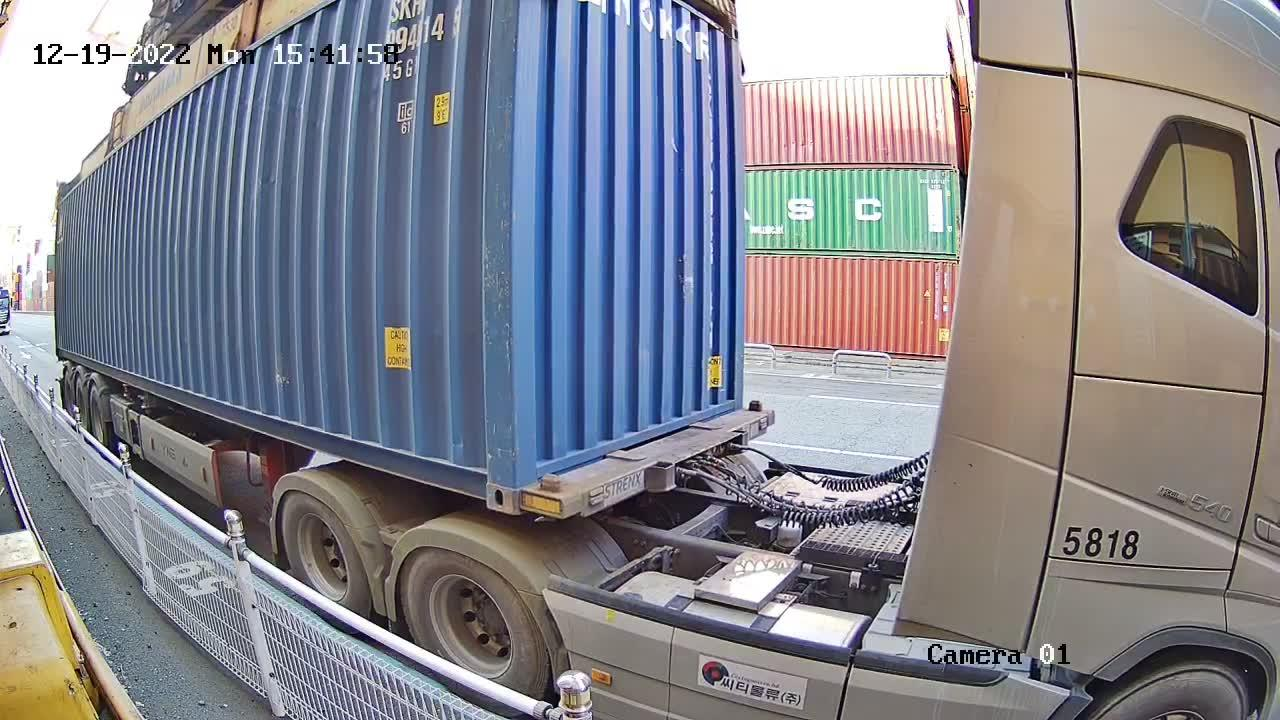Chassis: (520, 409, 775, 519)
Cone: (534, 474, 563, 493), (744, 397, 766, 414)
Hole_R: (453, 429, 517, 514)
Tire: (402, 549, 539, 692), (283, 496, 363, 606)
